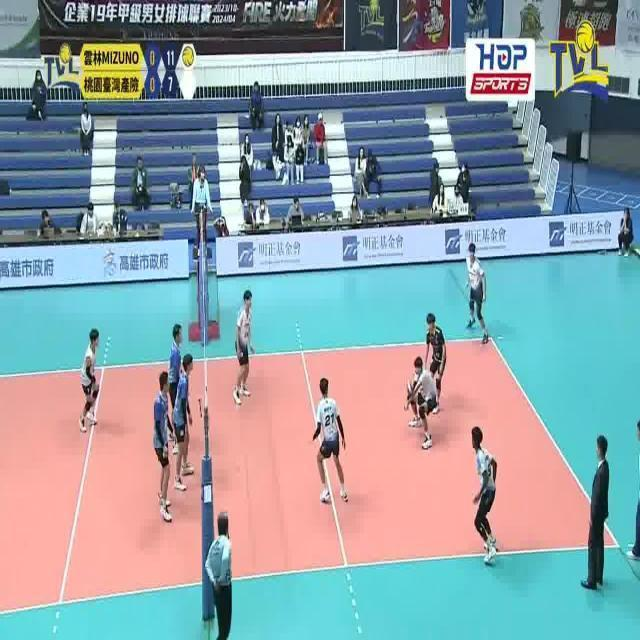volleyball: (404, 384, 415, 398)
